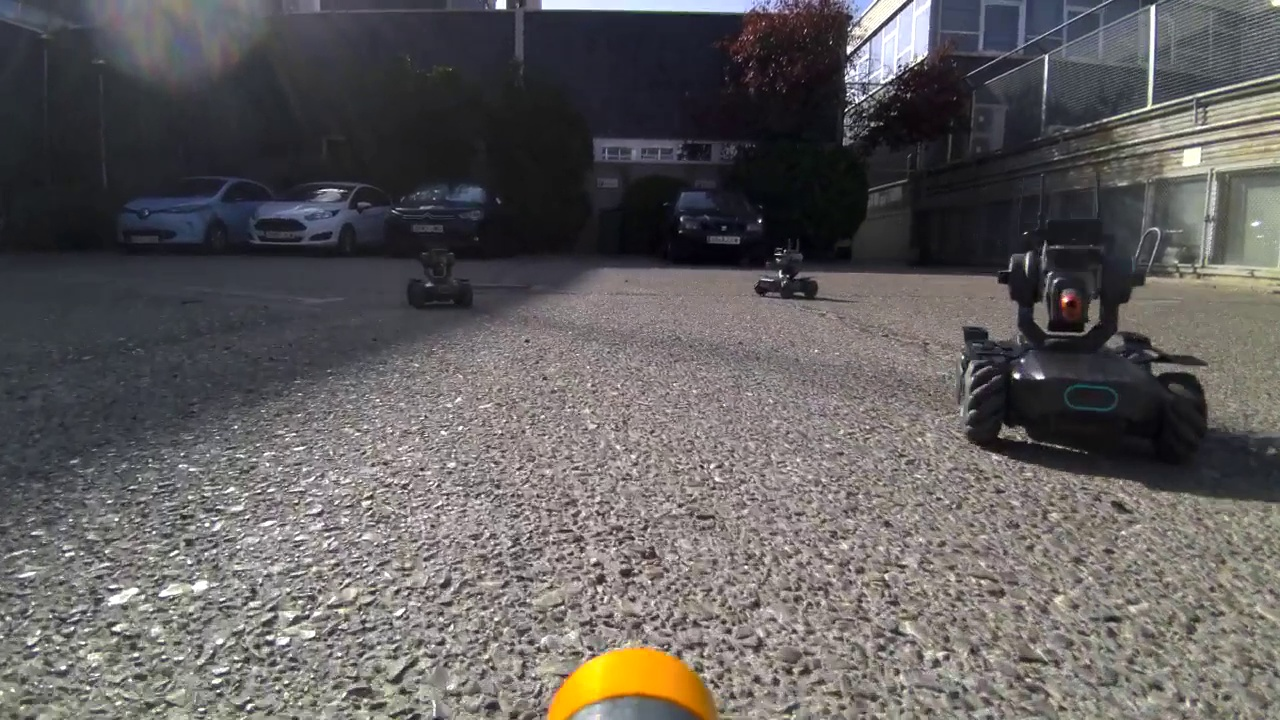robot: (944, 170, 1211, 476), (402, 237, 479, 314), (756, 231, 822, 310)
